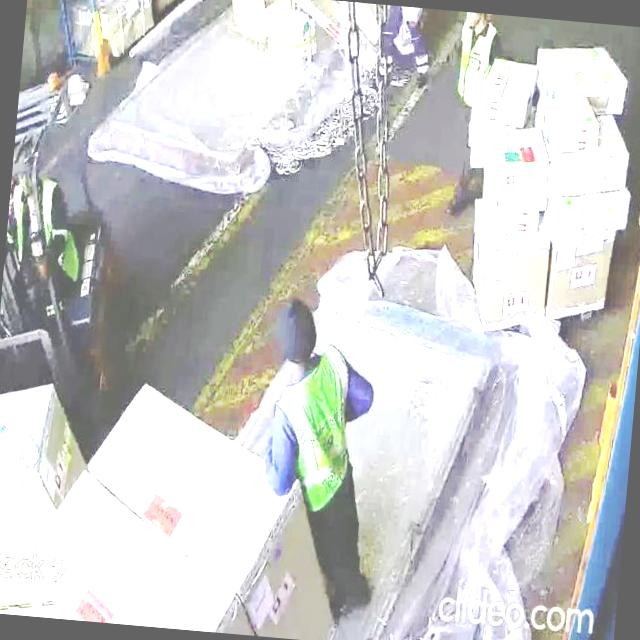Box: (104, 377, 300, 571), (48, 479, 218, 631), (466, 230, 552, 320), (544, 236, 612, 320), (536, 44, 628, 106), (489, 128, 552, 192), (475, 53, 531, 124), (256, 2, 316, 67), (558, 156, 632, 198), (554, 195, 629, 234), (544, 96, 594, 146)
